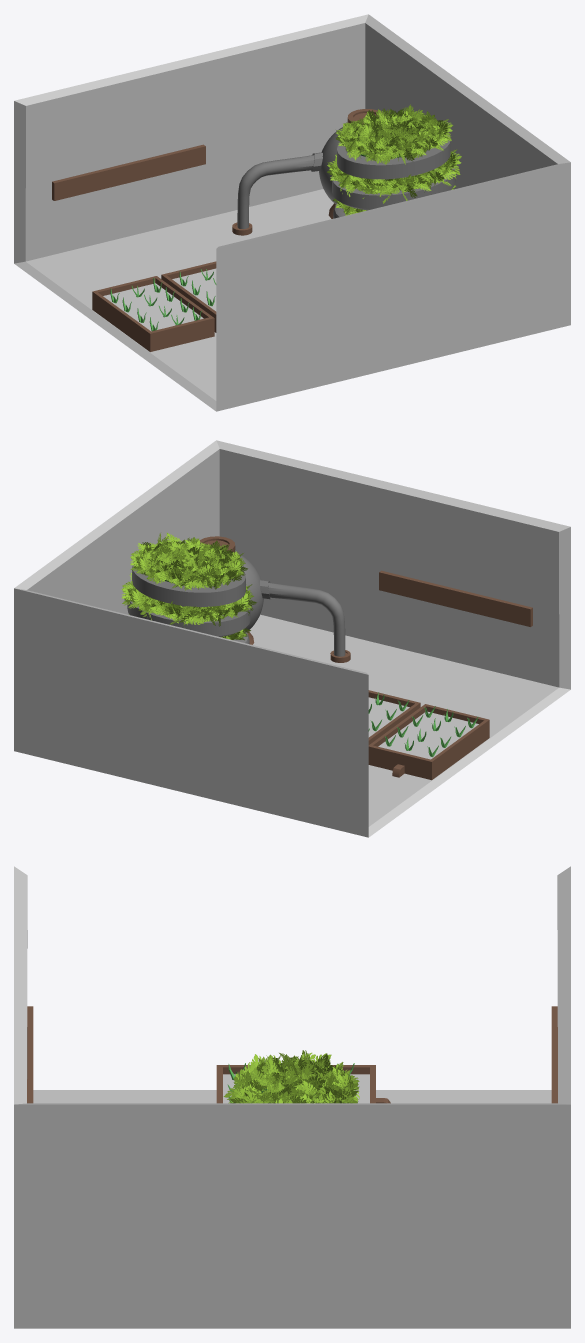
File: UnderGround_PlantRoom.fbx
3 views of the same model, one above another, from view 1: azimuth 30°, elevation 25°; view 2: azimuth 150°, elevation 25°; view 3: azimuth 270°, elevation 25° (orthographic). The views are drawn at different scales.
Visible parts, largest first — view 1: Plant_Room.001, Cube.163, leap (2).004, Cylinder.106, Cube.162, Sphere.001, leap (2).003, Cube.165, Cube.164; view 2: Plant_Room.001, Cube.163, leap (2).004, Cylinder.106, Cube.169, Sphere.001, leap (2).003, Cube.165, Cube.164; view 3: Plant_Room.001, leap (2).004, Cube.163, Cube.162, Cube.169.
Part boxes in pixels (x1,y1,x2,y2): Plant_Room.001: (14,14,570,411); Cube.163: (92,276,214,351); leap (2).004: (336,104,453,164); Cylinder.106: (332,124,455,218); Cube.162: (52,144,205,200); Sphere.001: (237,127,342,228); leap (2).003: (327,149,461,203); Cube.165: (161,261,216,332); Cube.164: (110,278,201,331); Plant_Room.001: (14,440,570,837); Cube.163: (368,704,489,780); leap (2).004: (130,532,247,590); Cylinder.106: (127,565,250,644); Cube.169: (379,570,532,626); Sphere.001: (238,553,345,656); leap (2).003: (121,573,256,627); Cube.165: (368,690,420,744); Cube.164: (384,706,478,757); Plant_Room.001: (14,866,570,1328); leap (2).004: (223,1050,359,1103); Cube.163: (216,1065,390,1103); Cube.162: (551,1006,557,1103); Cube.169: (27,1006,33,1103).
Size of the model in its own units: 6.39 by 6.32 by 2.81.
